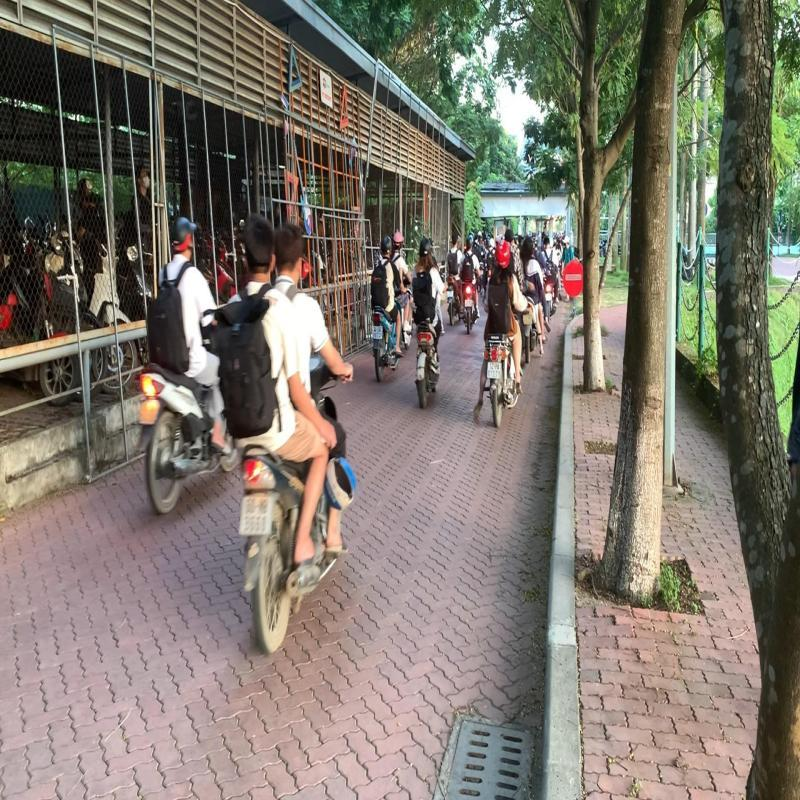nohelmet: (241, 208, 279, 282), (273, 219, 307, 281)
